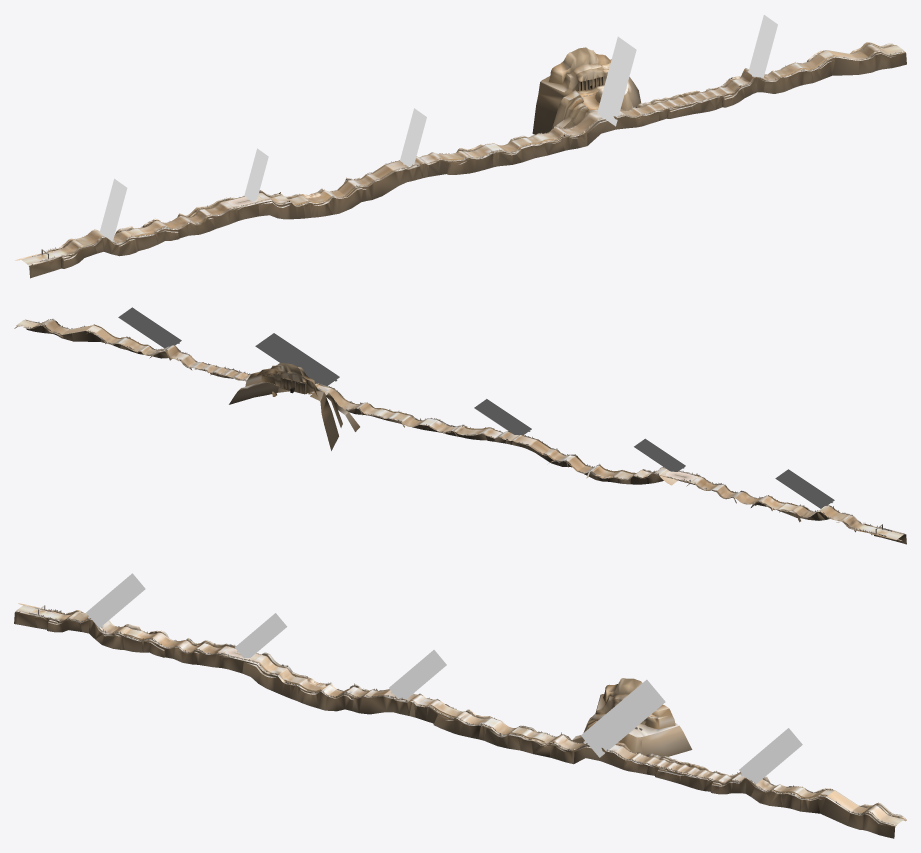
File: Desert_08.fbx
3 views of the same model, one above another, from view 1: azimuth 30°, elevation 25°; view 2: azimuth 150°, elevation 25°; view 3: azimuth 330°, elevation 25° (orthographic).
Visible parts, largest first — view 1: Mountain_01, Road_01, Light_01, Ground_01, Tree_01; view 2: Mountain_01, Road_01, Light_01, Ground_01, Tree_01; view 3: Mountain_01, Light_01, Road_01, Ground_01, Tree_01.
Part boxes in pixels (x1,y1,x2,y2): Mountain_01: (28, 42, 906, 278); Road_01: (21, 45, 903, 264); Light_01: (99, 15, 777, 241); Ground_01: (27, 44, 904, 264); Tree_01: (43, 43, 893, 260); Mountain_01: (14, 319, 906, 544); Road_01: (17, 319, 903, 539); Light_01: (118, 307, 834, 508); Ground_01: (16, 321, 904, 539); Tree_01: (21, 319, 885, 533); Mountain_01: (14, 610, 906, 838); Light_01: (86, 573, 802, 783); Road_01: (17, 605, 902, 824); Ground_01: (17, 607, 904, 825); Tree_01: (35, 609, 899, 822).
Bounding box in the file's own units: 98374 × 9611 × 7695.
